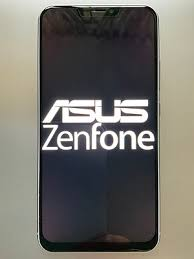asus: (34, 3, 160, 255)
